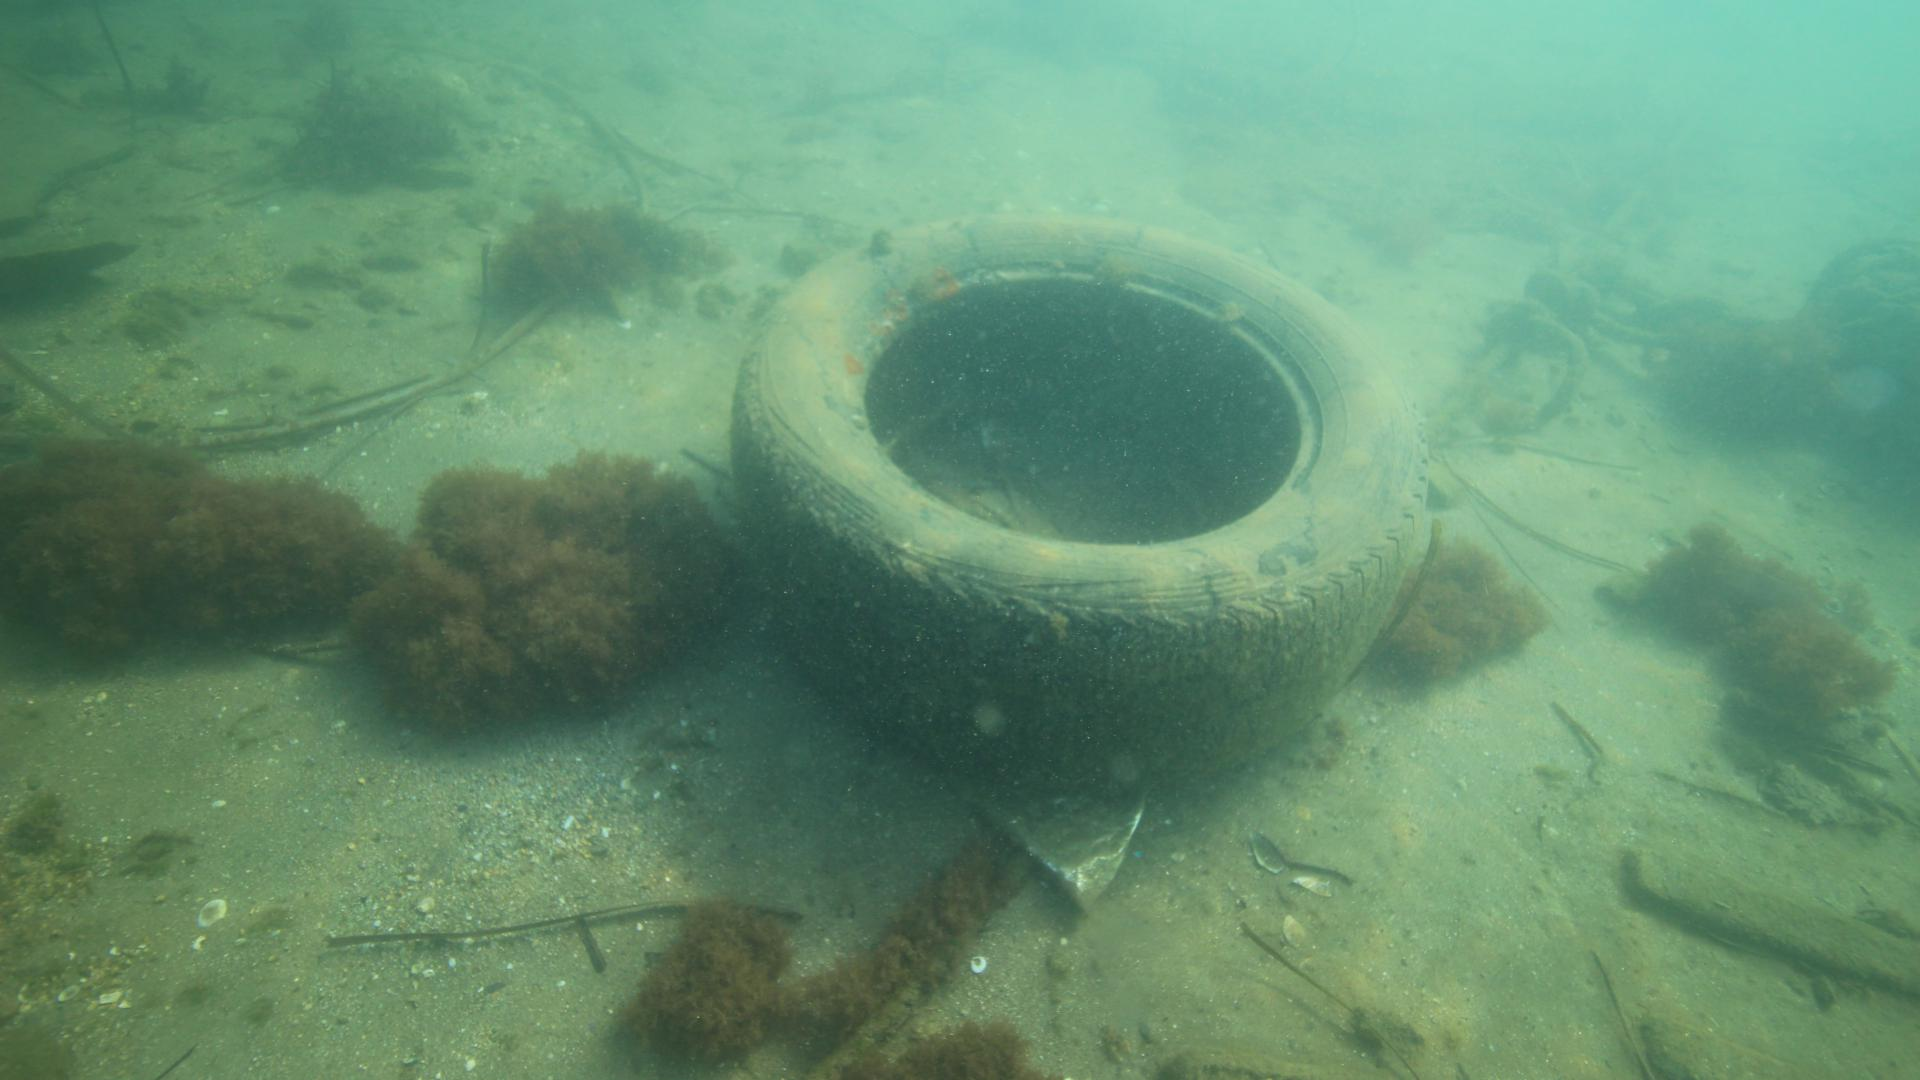tire: (731, 208, 1433, 799)
